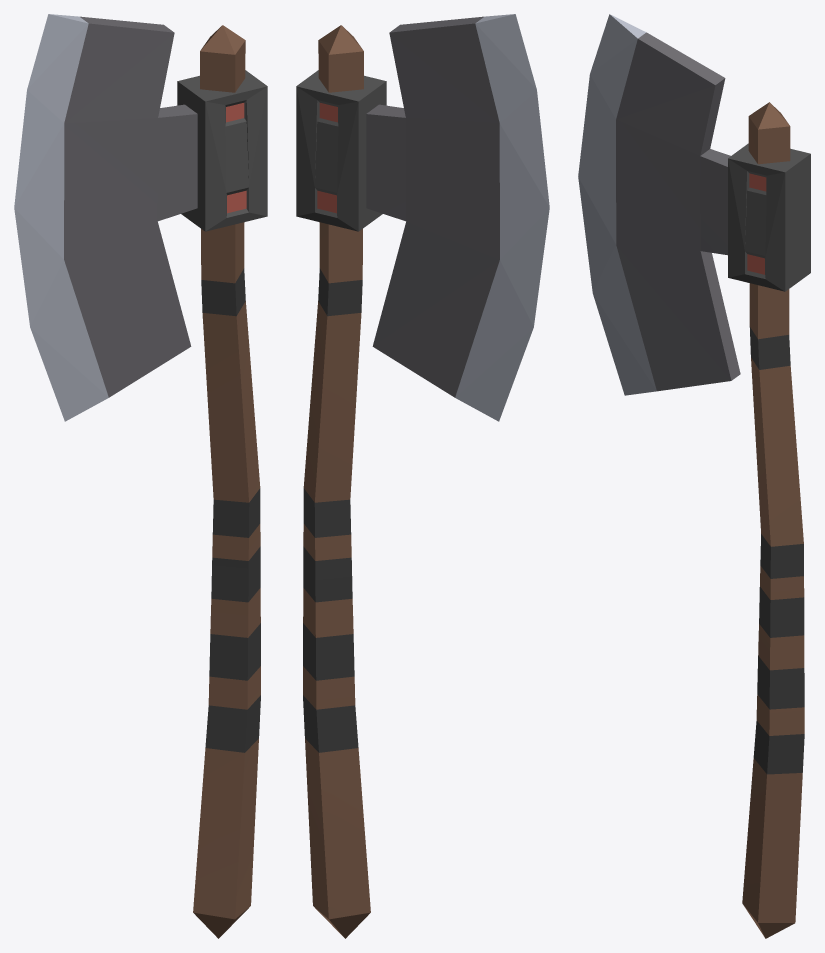
File: Axe_8.fbx
3 views of the same model, side by side, from view 1: azimuth 30°, elevation 25°; view 2: azimuth 150°, elevation 25°; view 3: azimuth 330°, elevation 25° (orthographic). The views are drawn at different scales.
Visible parts, largest first — view 1: polySurface200; view 2: polySurface200; view 3: polySurface200.
Boxes of the visible parts, box(x1,y1,x2,y2) form: polySurface200: box(14, 14, 267, 938); polySurface200: box(296, 14, 549, 938); polySurface200: box(578, 14, 810, 938).
Size of the model in its own units: 80.18 by 300 by 17.23.
